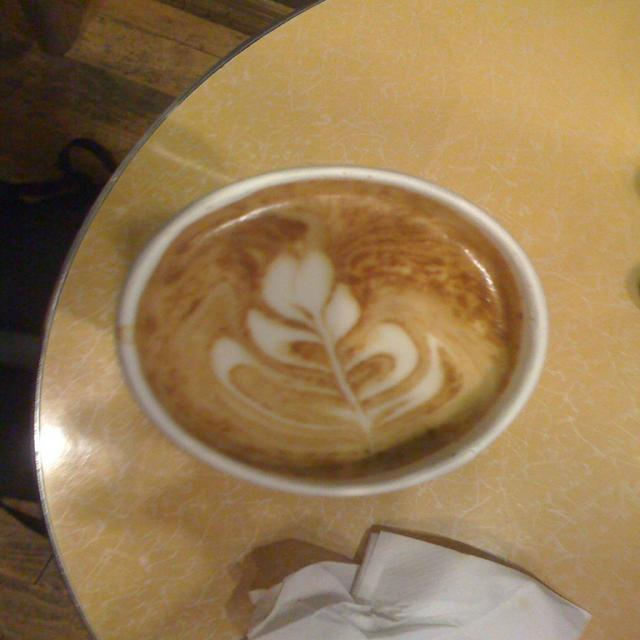latte: (116, 166, 551, 496)
